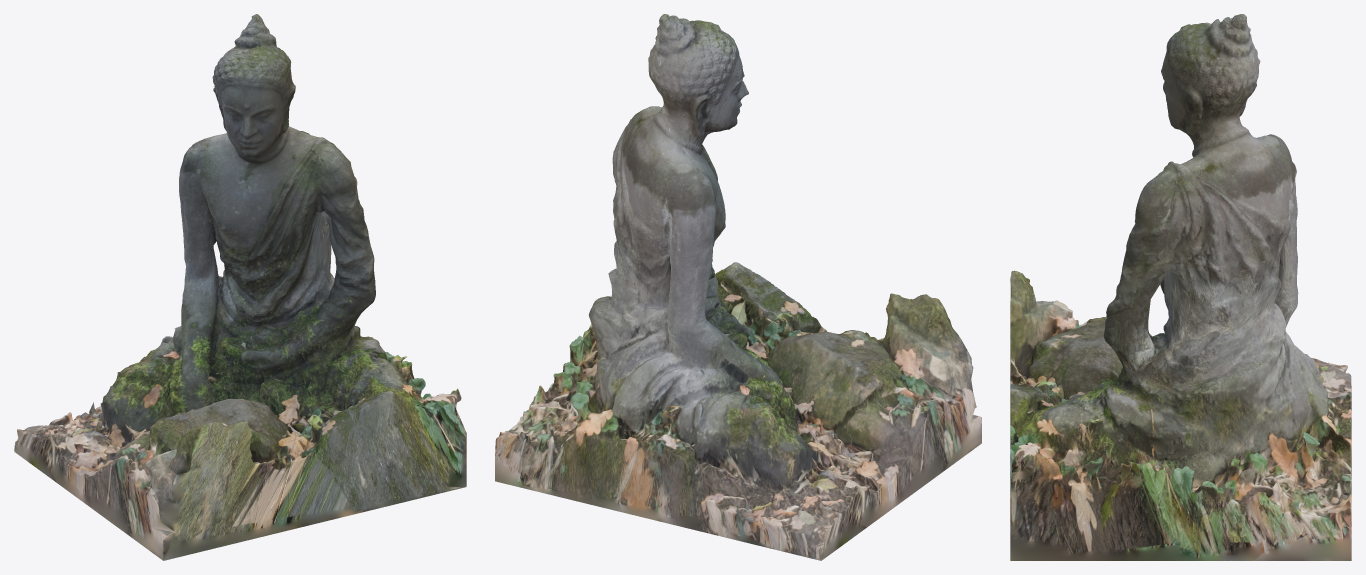
Rendered from buddha_statue.glb.
3 renders of one model, left to right at view 1: azimuth 30°, elevation 25°; view 2: azimuth 150°, elevation 25°; view 3: azimuth 270°, elevation 25°, orthographic. The views are drawn at different scales.
Visible parts, largest first — view 1: zoo-buddha; view 2: zoo-buddha; view 3: zoo-buddha.
Part boxes in pixels (x1,y1,x2,y2): zoo-buddha: [14, 14, 466, 560]; zoo-buddha: [495, 14, 981, 560]; zoo-buddha: [1010, 14, 1351, 560].
Size of the model in its own units: 0.8962 by 1.2 by 0.7638.
2 materials, 2 textured.
